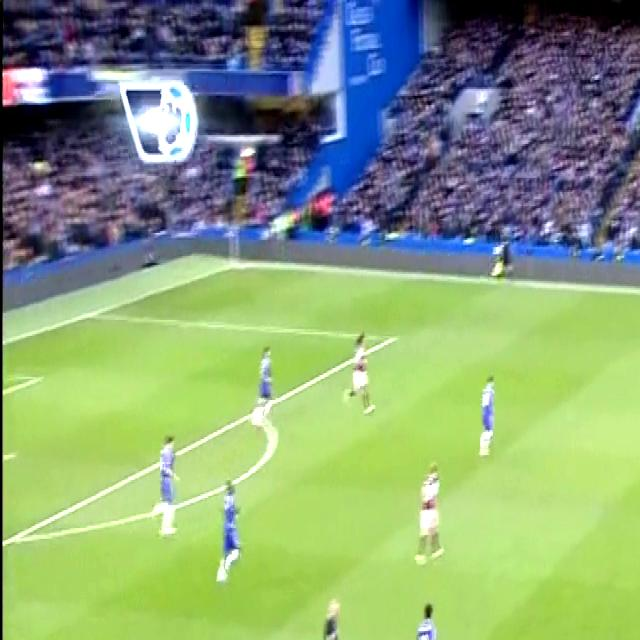referee: (316, 586, 355, 640), (484, 221, 514, 286)
soccer-player: (215, 471, 252, 596), (410, 456, 449, 573), (148, 420, 183, 542), (346, 324, 384, 424), (250, 340, 283, 443), (474, 362, 504, 460), (409, 594, 445, 640)
